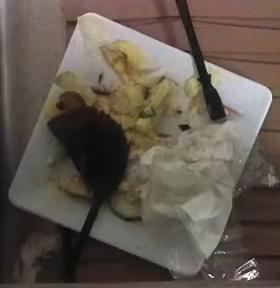vegetables: (89, 40, 182, 158), (110, 142, 150, 221)
